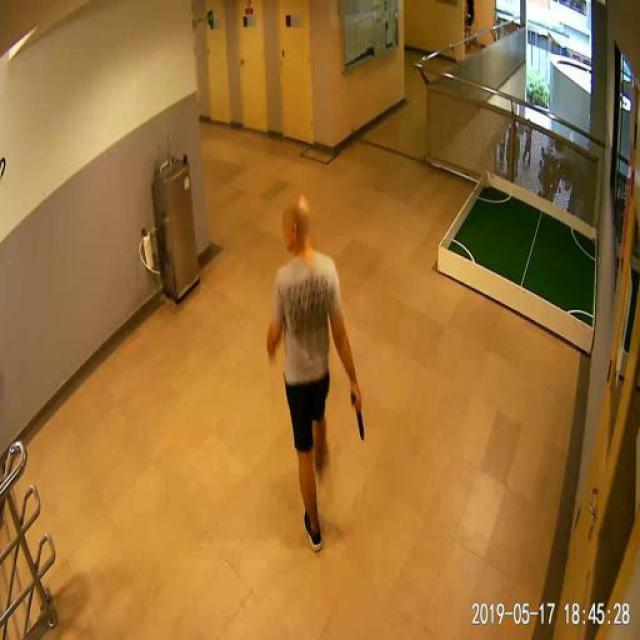weapon: (349, 392, 367, 444)
